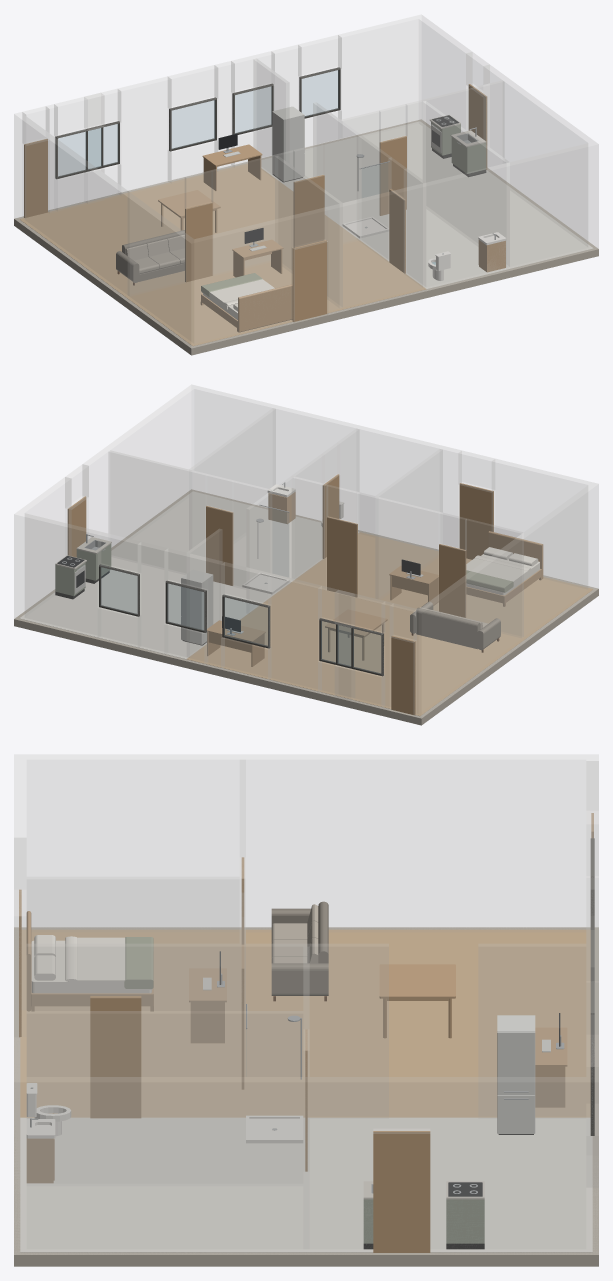
Rendered from casa-licea.glb.
3 views of the same model, one above another, from view 1: azimuth 30°, elevation 25°; view 2: azimuth 150°, elevation 25°; view 3: azimuth 270°, elevation 25° (orthographic). The views are drawn at different scales.
Parts seen in each view (by area): view 1: wall:shell, wall:w_bed_n, floor:r_living, wall:w_kit_s, floor:r_kitchen, wall:w_bath_e, slab:slab, wall:w_live_e, floor:r_utility, wall:w_hall_e, wall:w_bed_e, floor:r_bedroom (+28 smaller); view 2: wall:shell, wall:w_bed_n, floor:r_living, wall:w_kit_s, floor:r_kitchen, wall:w_live_e, slab:slab, wall:w_bath_e, wall:w_bed_e, floor:r_utility, wall:w_hall_e, floor:r_bedroom (+28 smaller); view 3: wall:shell, floor:r_living, wall:w_bath_e, wall:w_live_e, floor:r_kitchen, wall:w_bed_e, wall:w_hall_e, floor:r_utility, floor:r_bath, slab:slab, floor:r_bedroom, floor:r_hall (+15 smaller).
Part boxes in pixels (<box>): wall:shell: <box>14,14,598,347</box>; wall:w_bed_n: <box>128,135,357,294</box>; floor:r_living: <box>19,163,358,296</box>; wall:w_kit_s: <box>341,80,504,186</box>; floor:r_kitchen: <box>261,121,506,225</box>; wall:w_bath_e: <box>423,101,509,266</box>; slab:slab: <box>14,119,598,355</box>; wall:w_live_e: <box>253,59,361,202</box>; floor:r_utility: <box>424,185,593,268</box>; wall:w_hall_e: <box>358,135,425,286</box>; wall:w_bed_e: <box>275,156,342,306</box>; floor:r_bedroom: <box>125,261,342,346</box>; wall:shell: <box>14,384,598,717</box>; wall:w_bed_n: <box>293,477,523,636</box>; floor:r_living: <box>186,581,525,716</box>; wall:w_kit_s: <box>108,450,271,586</box>; floor:r_kitchen: <box>19,556,272,658</box>; wall:w_live_e: <box>187,476,294,656</box>; slab:slab: <box>14,489,598,725</box>; wall:w_bath_e: <box>189,408,275,549</box>; wall:w_bed_e: <box>375,449,442,598</box>; floor:r_utility: <box>111,491,268,573</box>; wall:w_hall_e: <box>292,429,359,577</box>; floor:r_bedroom: <box>376,556,593,638</box>; wall:shell: <box>14,754,598,1254</box>; floor:r_living: <box>243,929,590,1117</box>; wall:w_bath_e: <box>27,1011,302,1183</box>; wall:w_live_e: <box>240,944,585,1115</box>; floor:r_kitchen: <box>306,1117,592,1252</box>; wall:w_bed_e: <box>27,877,239,1010</box>; wall:w_hall_e: <box>27,944,239,1076</box>; floor:r_utility: <box>20,1185,306,1252</box>; floor:r_bath: <box>20,1117,306,1184</box>; slab:slab: <box>14,927,598,1266</box>; floor:r_bedroom: <box>20,929,241,1050</box>; floor:r_hall: <box>20,1050,242,1117</box>.
Bounding box in the file's own units: 12.2 × 3.2 × 9.2.
